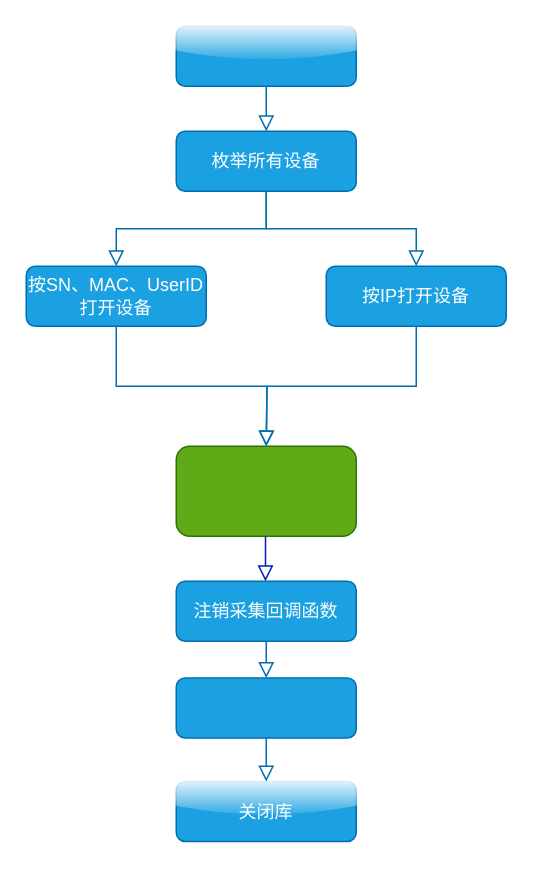
This 533x869 diagram has some shape labels left out. Here are the shapes that lost their labels. From the top down, the centre of each, then its label:
the point at 265,55: 初始化库
the point at 265,490: 功能控制 采集图像 接收事件
the point at 265,707: 关闭设备
